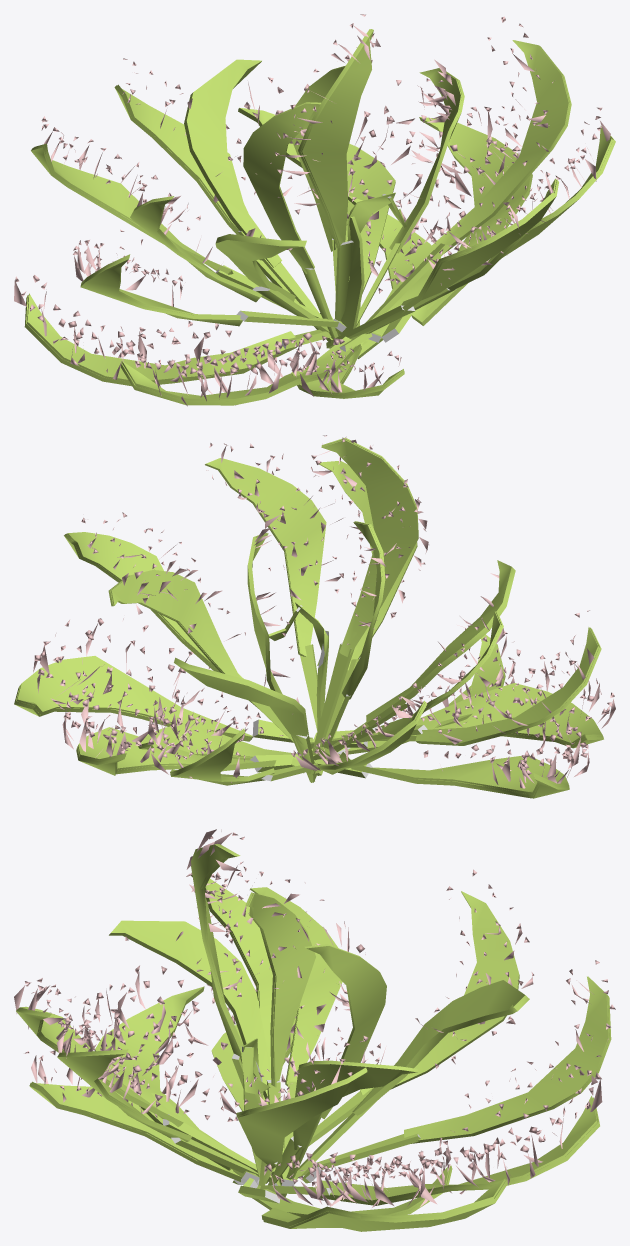
File: trap-sundew.glb
The picture shows the model from 3 angles, top to bottom: view 1: azimuth 30°, elevation 25°; view 2: azimuth 150°, elevation 25°; view 3: azimuth 270°, elevation 25°; orthographic projection. The views are drawn at different scales.
Parts seen in each view (by area): view 1: plant; view 2: plant; view 3: plant.
Boxes of the visible parts, x1,y1,x2,y2 form: plant: (14, 14, 615, 406); plant: (14, 435, 615, 798); plant: (14, 829, 615, 1231).
Size of the model in its own units: 1.57 by 0.9962 by 1.47.
1 material, 1 textured.
